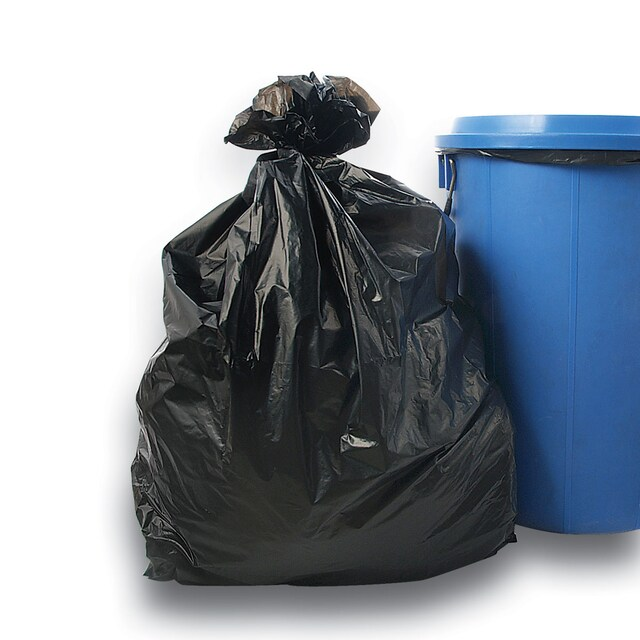plastic_bagwdw: (72, 30, 539, 618)
